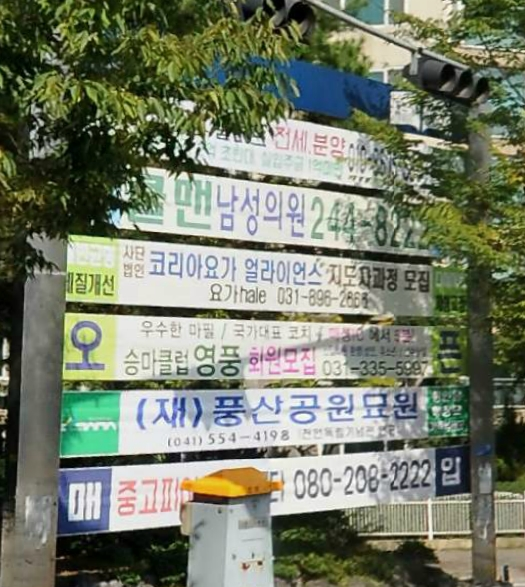banner: (51, 439, 474, 541), (68, 233, 482, 317), (62, 303, 479, 385), (58, 382, 476, 453)
